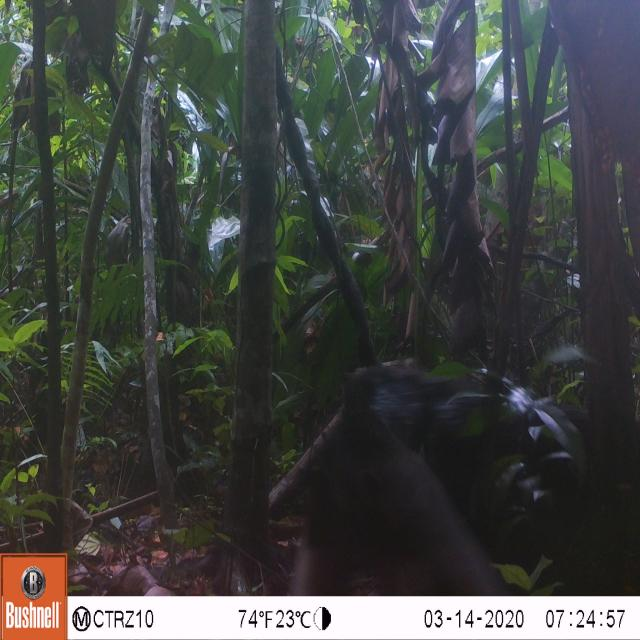Giant Anteater: (288, 345, 594, 594)
